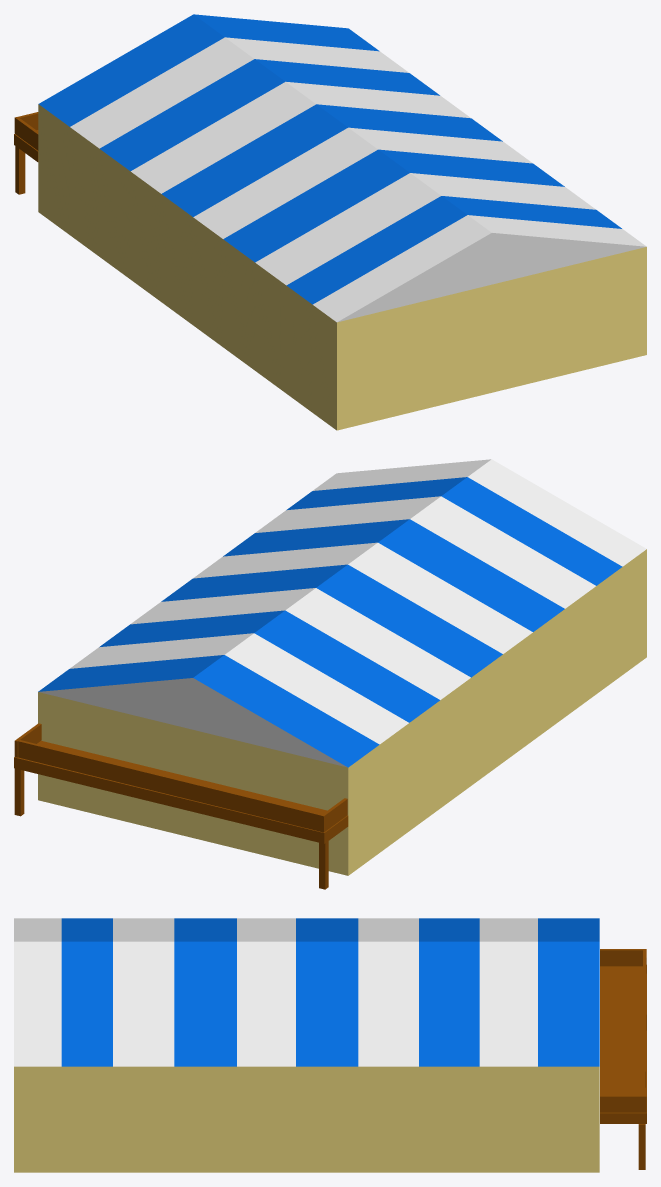
The model's file is Zelt_hellbraun_steifendach.fbx.
The picture shows the model from 3 angles, top to bottom: view 1: azimuth 30°, elevation 25°; view 2: azimuth 150°, elevation 25°; view 3: azimuth 270°, elevation 25°; orthographic projection. The views are drawn at different scales.
Visible parts, largest first — view 1: Cube.001; view 2: Cube.001, Cube.005, Cube.002; view 3: Cube.001, Cube.002, Cube.004, Cube.003, Cube.005.
Part boxes in pixels (x1,y1,x2,y2): Cube.001: (38, 14, 646, 430); Cube.001: (38, 459, 646, 875); Cube.005: (18, 740, 322, 831); Cube.002: (14, 740, 348, 843); Cube.001: (14, 918, 599, 1172); Cube.002: (600, 965, 646, 1123); Cube.004: (600, 1095, 646, 1112); Cube.003: (600, 949, 646, 966); Cube.005: (642, 950, 646, 1095).
Size of the model in its own units: 3003 by 1531 by 5405.
